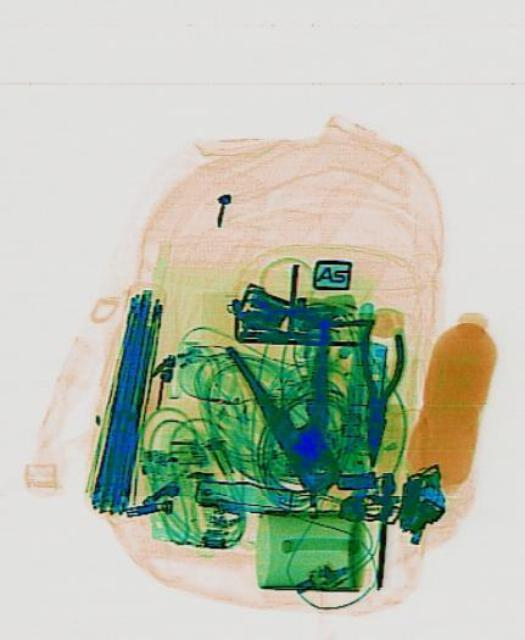Pliers: (225, 304, 376, 508), (347, 317, 403, 468)
